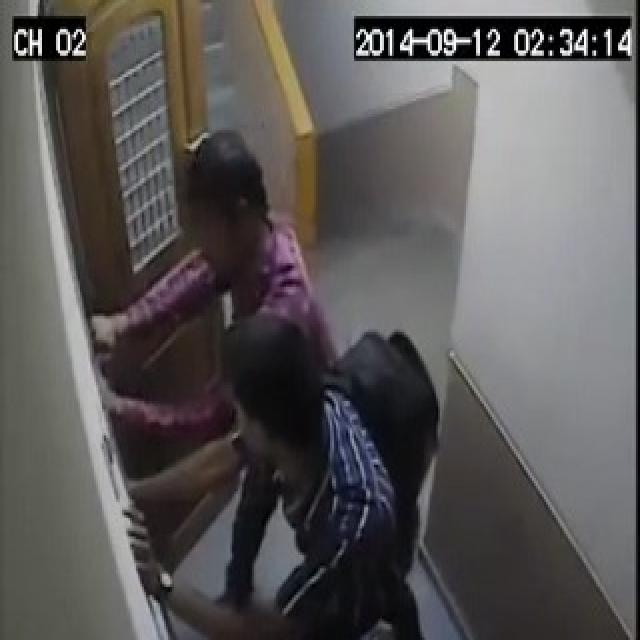thief: (74, 138, 436, 638)
